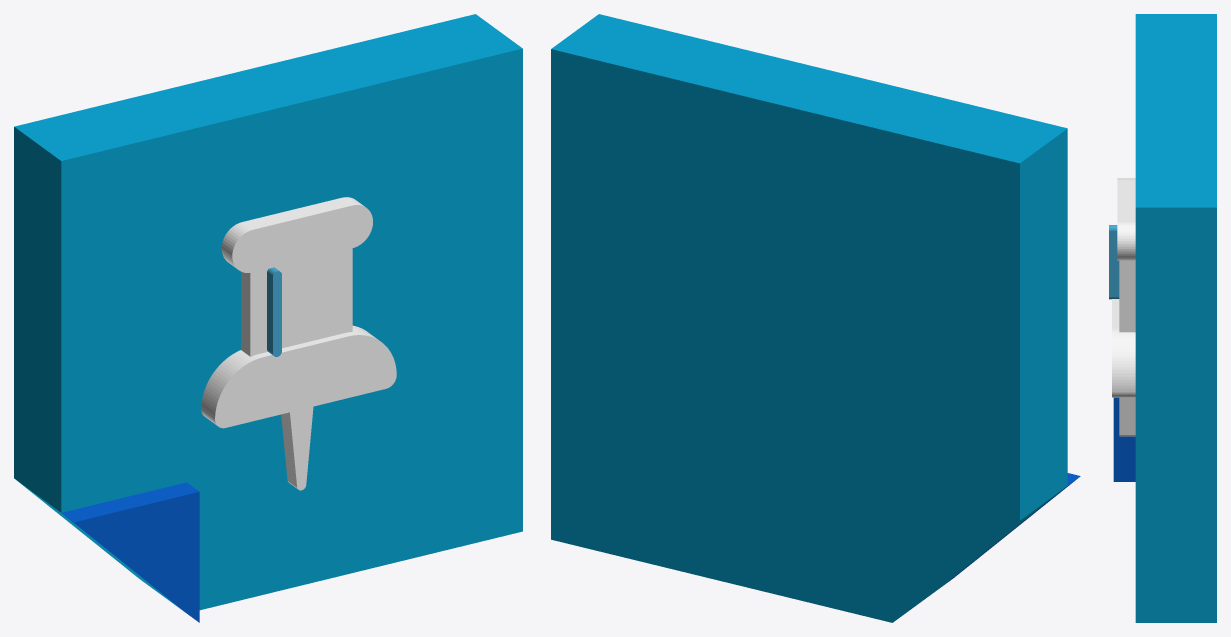
File: noticeboard.gltf
3 renders of one model, left to right at view 1: azimuth 30°, elevation 25°; view 2: azimuth 150°, elevation 25°; view 3: azimuth 270°, elevation 25°, orthographic. The views are drawn at different scales.
Bounding box in the file's own units: 7.02 × 7.02 × 1.65.
